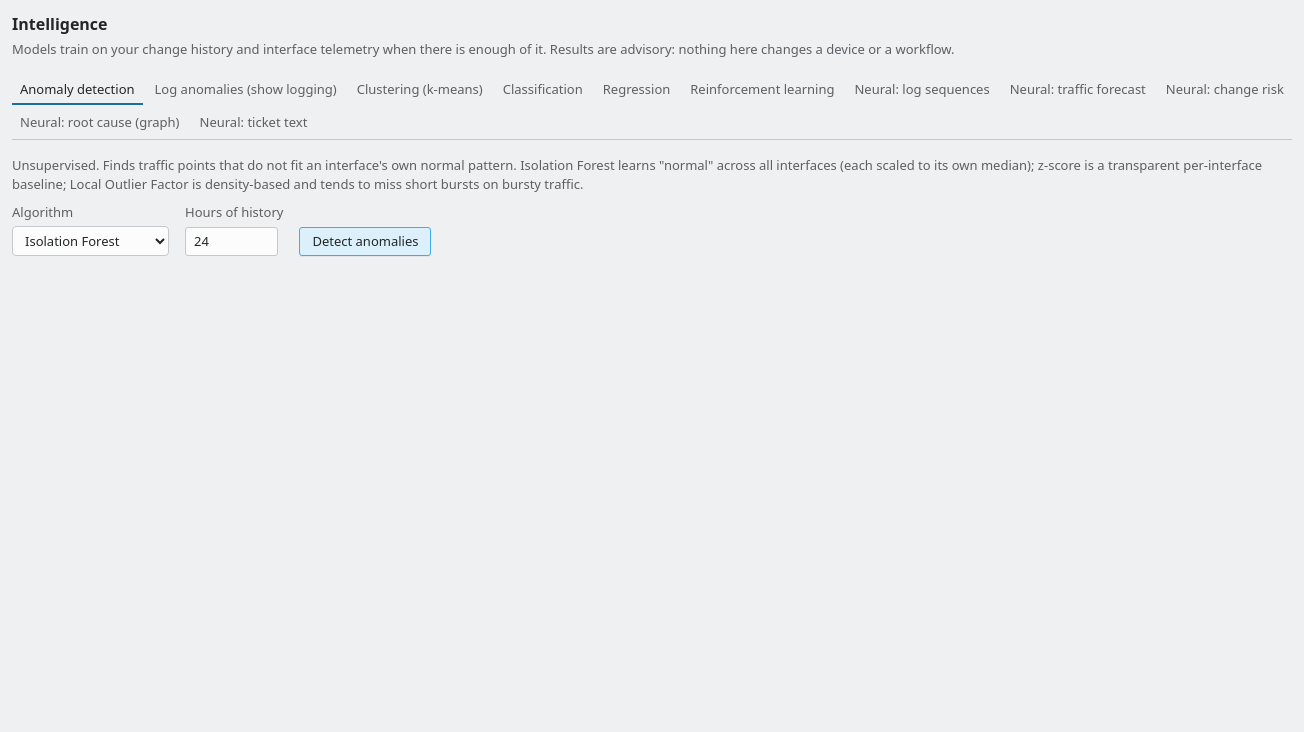
Test case: MachineLearning › flags synthetic training data and lists every regressor
Click the tab "Regression": (636, 90) [595,76,678,105]
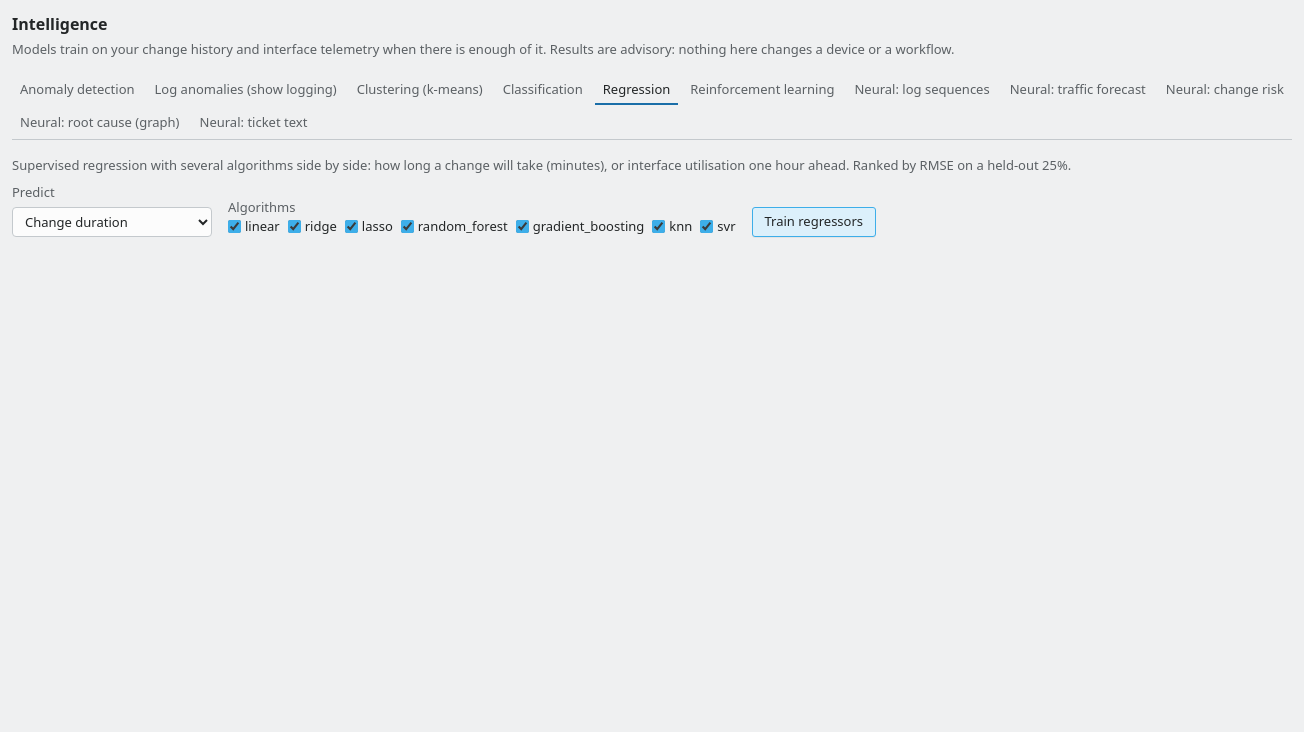
Click the button "Train regressors": (814, 222) [752,207,876,236]
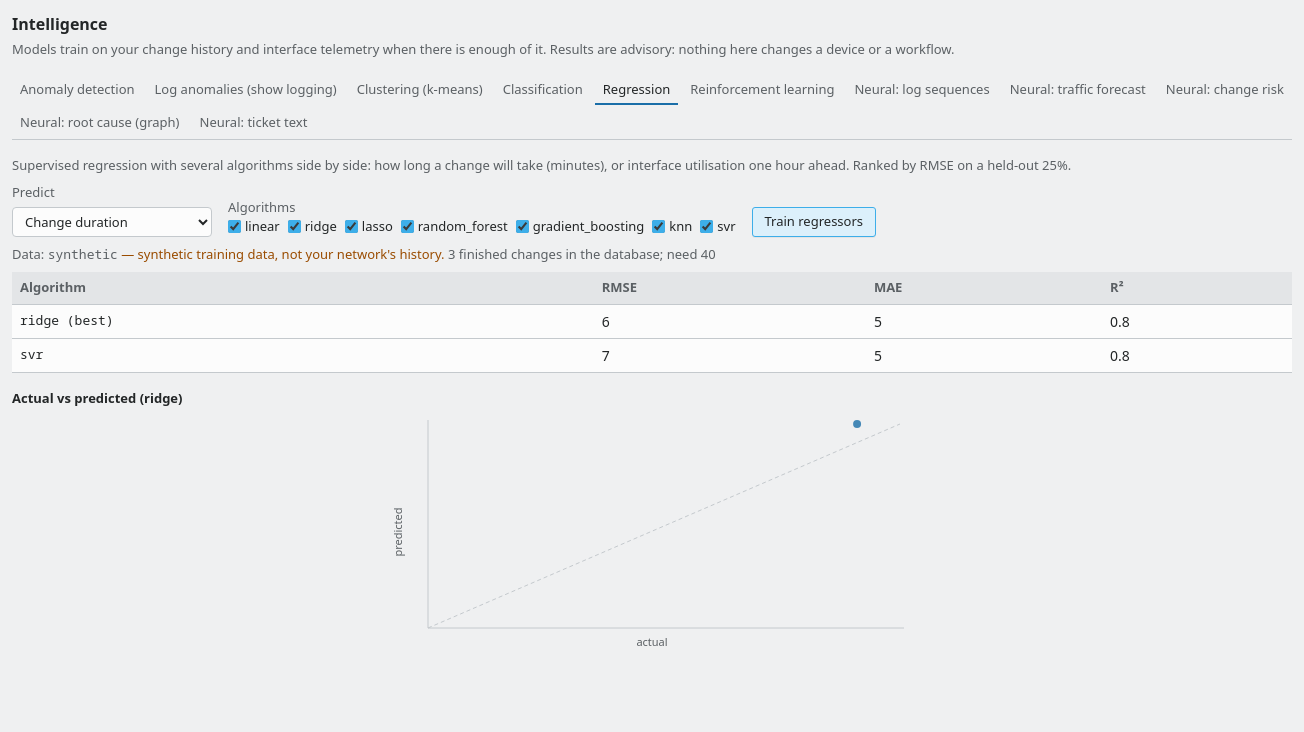
expect the text "— synthetic training data, not your network's history." is shown: met, box [118,244,445,262]
expect the text "ridge (best)" is shown: met, box [12,304,594,338]
